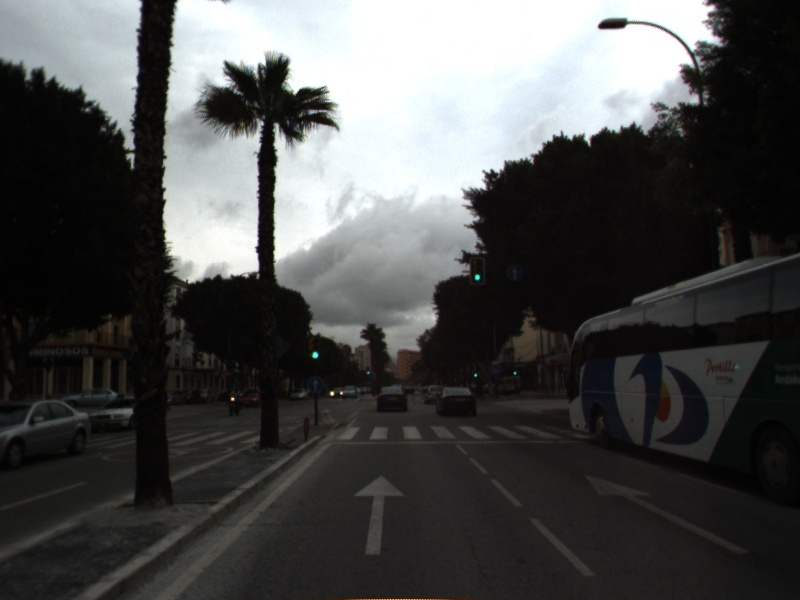STRAIGHT: (581, 471, 752, 557), (351, 472, 408, 557)
